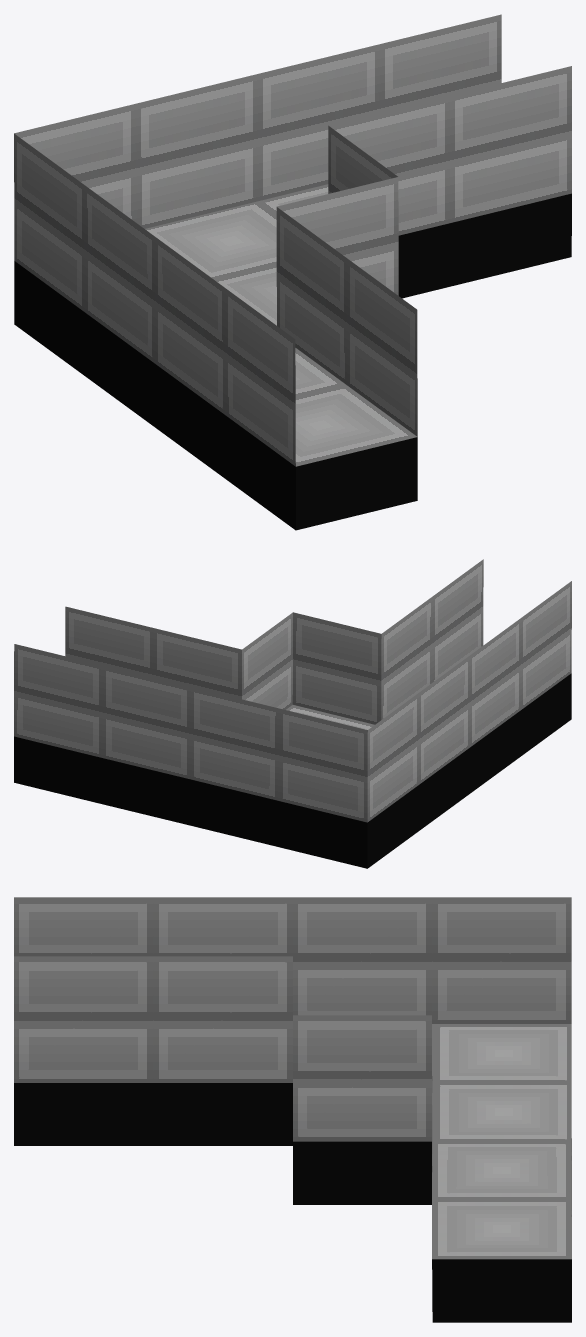
The model's file is LTurn.gltf.
3 views of the same model, one above another, from view 1: azimuth 30°, elevation 25°; view 2: azimuth 150°, elevation 25°; view 3: azimuth 270°, elevation 25° (orthographic). The views are drawn at different scales.
Parts seen in each view (by area): view 1: LTurn; view 2: LTurn; view 3: LTurn.
Part boxes in pixels (x1=…): LTurn: x1=14, y1=14, x2=571, y2=530; LTurn: x1=14, y1=559, x2=571, y2=868; LTurn: x1=14, y1=897, x2=571, y2=1322.
Size of the model in its own units: 8 by 3 by 8.
2 materials, 1 textured.
